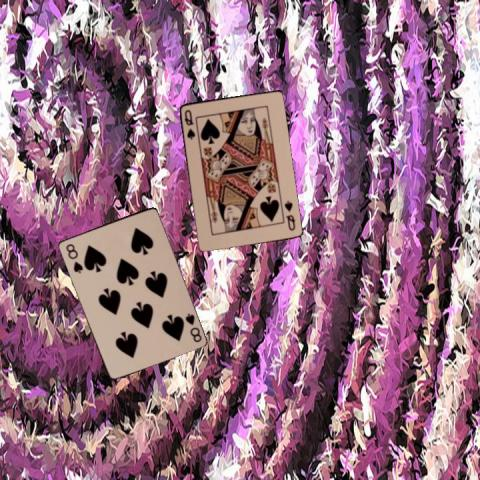8s: (63, 241, 84, 274), (182, 310, 203, 343)
Qs: (181, 106, 197, 140), (281, 198, 296, 232)
